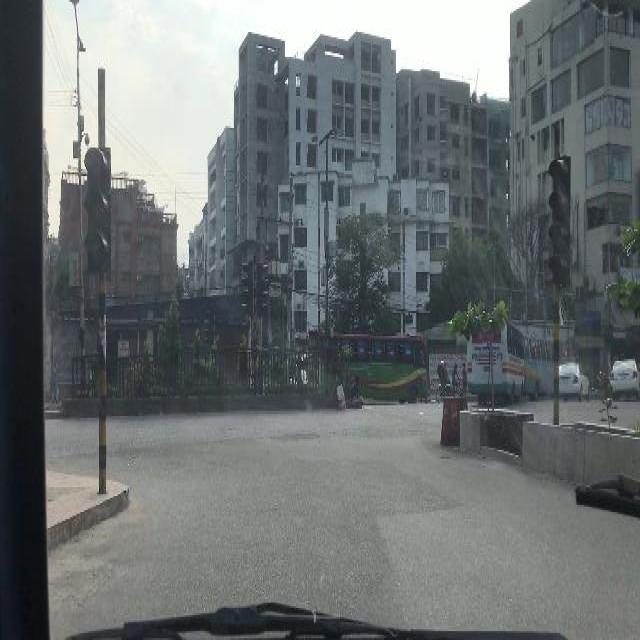bus: (308, 327, 430, 402), (464, 309, 524, 402), (522, 332, 554, 397)
car: (558, 362, 590, 402), (611, 359, 639, 398)
rickshaw: (434, 359, 464, 402)
